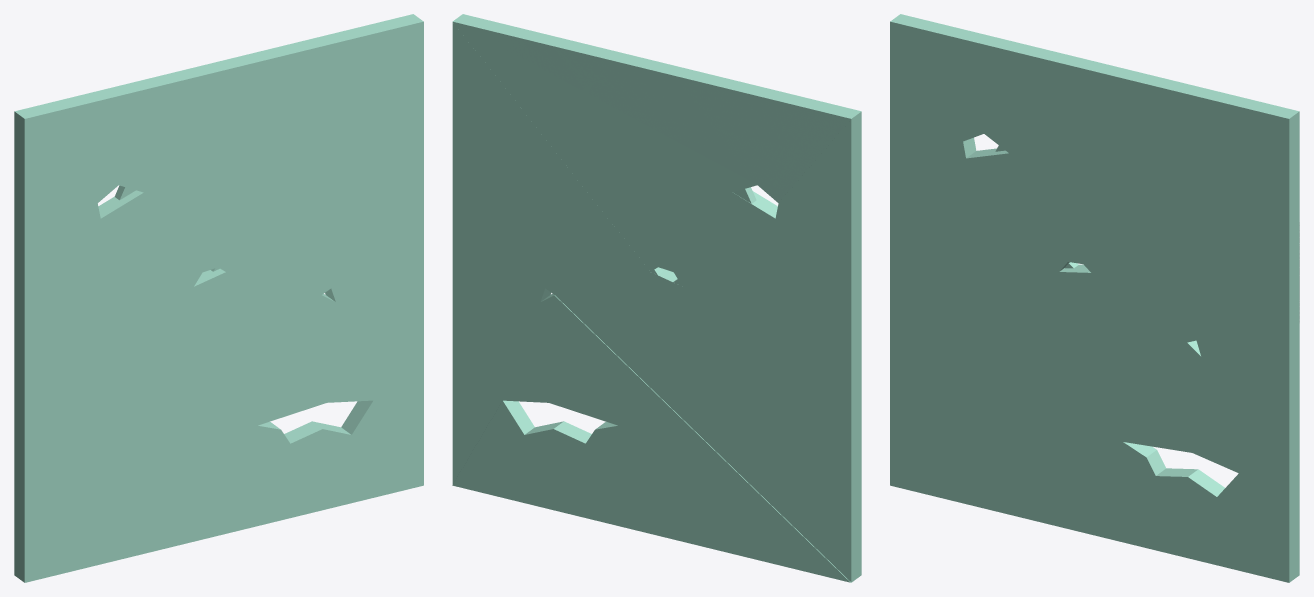
The model's file is destructable_wall_kaputt.glb.
3 views of the same model, side by side, from view 1: azimuth 30°, elevation 25°; view 2: azimuth 150°, elevation 25°; view 3: azimuth 330°, elevation 25° (orthographic).
Parts seen in each view (by area): view 1: Cube.001_cell.059, Cube.001_cell.042, Cube.001_cell, Cube.001_cell.015, Cube.001_cell.056, Cube.001_cell.010, Cube.001_cell.005, Cube.001_cell.036, Cube.001_cell.011, Cube.001_cell.058, Cube.001_cell.002, Cube.001_cell.014 (+16 smaller); view 2: Cube.001_cell.059, Cube.001_cell.056, Cube.001_cell.031, Cube.001_cell.032, Cube.001_cell.036, Cube.001_cell.043, Cube.001_cell, Cube.001_cell.002, Cube.001_cell.029, Cube.001_cell.058, Cube.001_cell.020, Cube.001_cell.042 (+4 smaller); view 3: Cube.001_cell.059, Cube.001_cell, Cube.001_cell.056, Cube.001_cell.018, Cube.001_cell.042, Cube.001_cell.015, Cube.001_cell.010, Cube.001_cell.005, Cube.001_cell.011, Cube.001_cell.023, Cube.001_cell.036, Cube.001_cell.032 (+13 smaller).
Boxes of the visible parts, left/top/right/bottom form: Cube.001_cell.059: left=14, top=111, right=423, bottom=582; Cube.001_cell.042: left=24, top=123, right=423, bottom=476; Cube.001_cell: left=24, top=294, right=422, bottom=582; Cube.001_cell.015: left=40, top=254, right=225, bottom=435; Cube.001_cell.056: left=58, top=401, right=422, bottom=570; Cube.001_cell.010: left=120, top=60, right=285, bottom=259; Cube.001_cell.005: left=267, top=21, right=423, bottom=162; Cube.001_cell.036: left=27, top=294, right=421, bottom=580; Cube.001_cell.011: left=24, top=205, right=141, bottom=400; Cube.001_cell.058: left=25, top=403, right=420, bottom=582; Cube.001_cell.002: left=14, top=14, right=423, bottom=578; Cube.001_cell.014: left=212, top=134, right=322, bottom=355; Cube.001_cell.059: left=452, top=22, right=851, bottom=582; Cube.001_cell.056: left=452, top=401, right=849, bottom=582; Cube.001_cell.031: left=453, top=21, right=850, bottom=203; Cube.001_cell.032: left=453, top=22, right=732, bottom=286; Cube.001_cell.036: left=456, top=293, right=850, bottom=582; Cube.001_cell.043: left=457, top=228, right=851, bottom=582; Cube.001_cell: left=453, top=299, right=702, bottom=482; Cube.001_cell.002: left=453, top=14, right=861, bottom=581; Cube.001_cell.029: left=453, top=22, right=850, bottom=202; Cube.001_cell.058: left=456, top=403, right=670, bottom=519; Cube.001_cell.020: left=575, top=113, right=861, bottom=579; Cube.001_cell.042: left=540, top=192, right=777, bottom=301; Cube.001_cell.059: left=890, top=22, right=1299, bottom=582; Cube.001_cell: left=890, top=304, right=1221, bottom=514; Cube.001_cell.056: left=891, top=448, right=1282, bottom=575; Cube.001_cell.018: left=977, top=112, right=1299, bottom=582; Cube.001_cell.042: left=890, top=24, right=1299, bottom=502; Cube.001_cell.015: left=906, top=218, right=1090, bottom=380; Cube.001_cell.010: left=989, top=59, right=1150, bottom=219; Cube.001_cell.005: left=1132, top=80, right=1294, bottom=259; Cube.001_cell.011: left=890, top=146, right=1006, bottom=309; Cube.001_cell.023: left=1161, top=194, right=1289, bottom=342; Cube.001_cell.036: left=891, top=340, right=1241, bottom=485; Cube.001_cell.032: left=1009, top=119, right=1287, bottom=269.
Bounding box in the file's own units: 4.5 × 5 × 0.2086.
